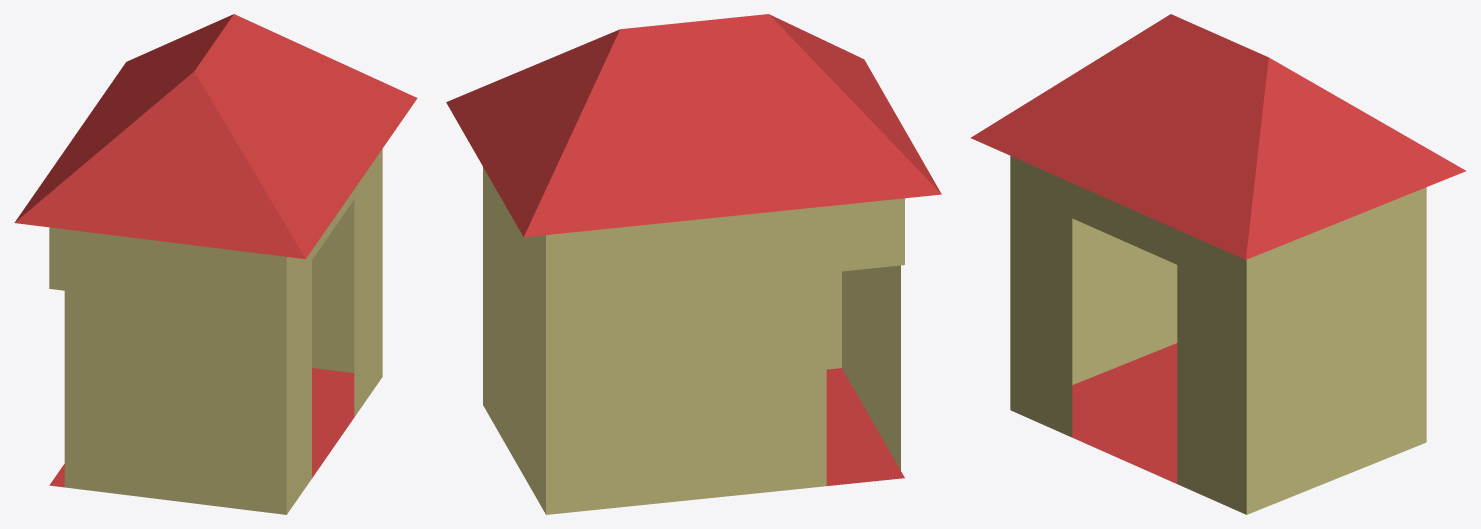
3 renders of one model, left to right at view 1: azimuth 30°, elevation 25°; view 2: azimuth 150°, elevation 25°; view 3: azimuth 270°, elevation 25°, orthographic. The views are drawn at different scales.
Visible parts, largest first — view 1: group_5, group_3, group_4, group_6; view 2: group_5, group_3, group_4, group_6; view 3: group_5, group_3, group_6, group_4.
Boxes of the visible parts, box(x1,y1,x2,y2) form: group_5: box(49, 149, 382, 514); group_3: box(14, 14, 417, 258); group_4: box(15, 52, 413, 258); group_6: box(49, 368, 354, 487); group_5: box(483, 167, 904, 514); group_3: box(484, 14, 941, 236); group_4: box(446, 49, 941, 237); group_6: box(826, 368, 904, 485); group_5: box(1010, 156, 1426, 514); group_3: box(971, 14, 1465, 259); group_6: box(1072, 343, 1177, 483); group_4: box(1246, 160, 1465, 259).
Size of the model in its own units: 17.66 by 17.55 by 15.22.
